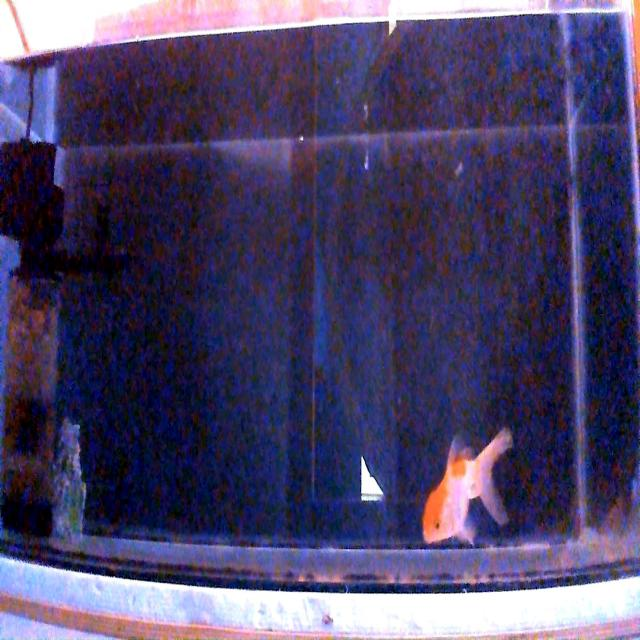fish: (420, 426, 513, 548)
